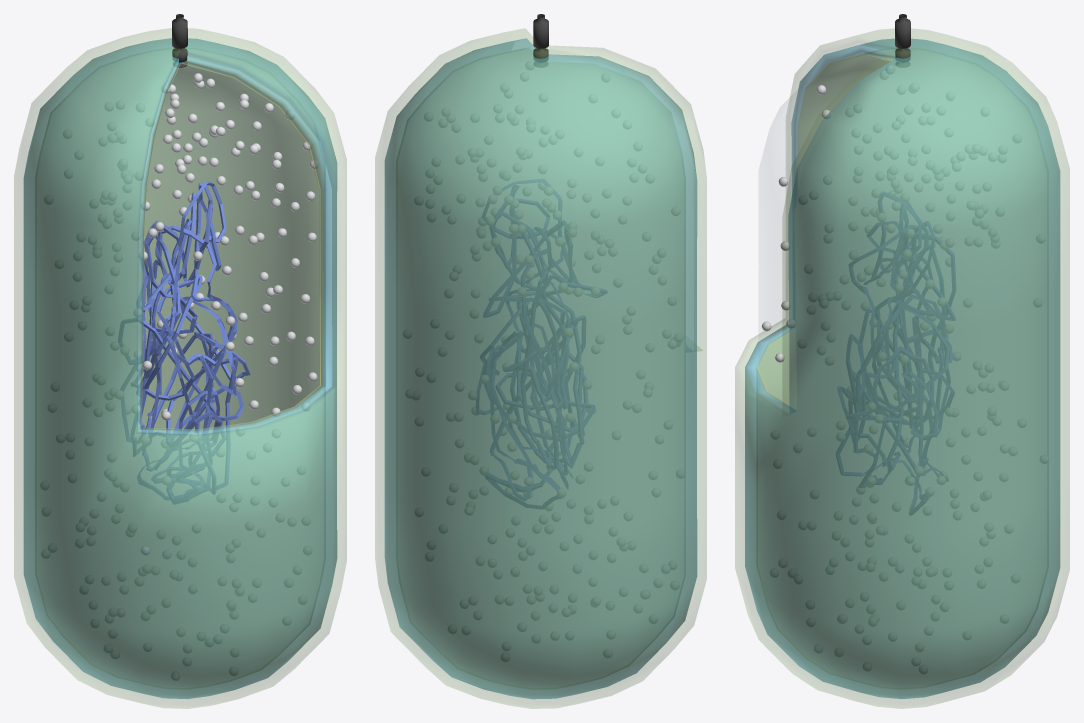
The model's file is prokaryotic_cell.glb.
3 views of the same model, side by side, from view 1: azimuth 30°, elevation 25°; view 2: azimuth 150°, elevation 25°; view 3: azimuth 270°, elevation 25° (orthographic).
Parts seen in each view (by area): view 1: cell wall, capsule, cytoplasm, membrane, nucleoid, flagellum; view 2: capsule, cell wall, nucleoid, flagellum; view 3: capsule, cell wall, nucleoid, cytoplasm, membrane, flagellum.
Part boxes in pixels (<box>): cell wall: <box>23,38,337,698</box>; capsule: <box>14,28,346,708</box>; cytoplasm: <box>142,66,318,428</box>; membrane: <box>39,49,325,688</box>; nucleoid: <box>118,181,250,503</box>; flagellum: <box>172,14,187,67</box>; capsule: <box>375,28,706,708</box>; cell wall: <box>384,38,697,699</box>; nucleoid: <box>476,179,607,508</box>; flagellum: <box>533,14,548,66</box>; capsule: <box>735,28,1069,708</box>; cell wall: <box>745,38,1060,698</box>; nucleoid: <box>836,192,955,514</box>; cytoplasm: <box>759,56,878,398</box>; membrane: <box>756,49,1046,688</box>; flagellum: <box>895,14,910,66</box>.
Size of the model in its own units: 2.02 by 4.49 by 2.02.
